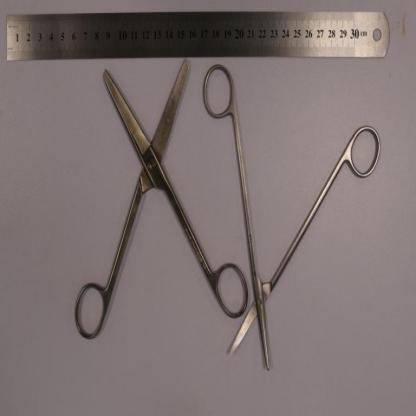7 Metzenbaum Scissors: (202, 63, 382, 372)
Dressing Scissors: (73, 57, 250, 343)
